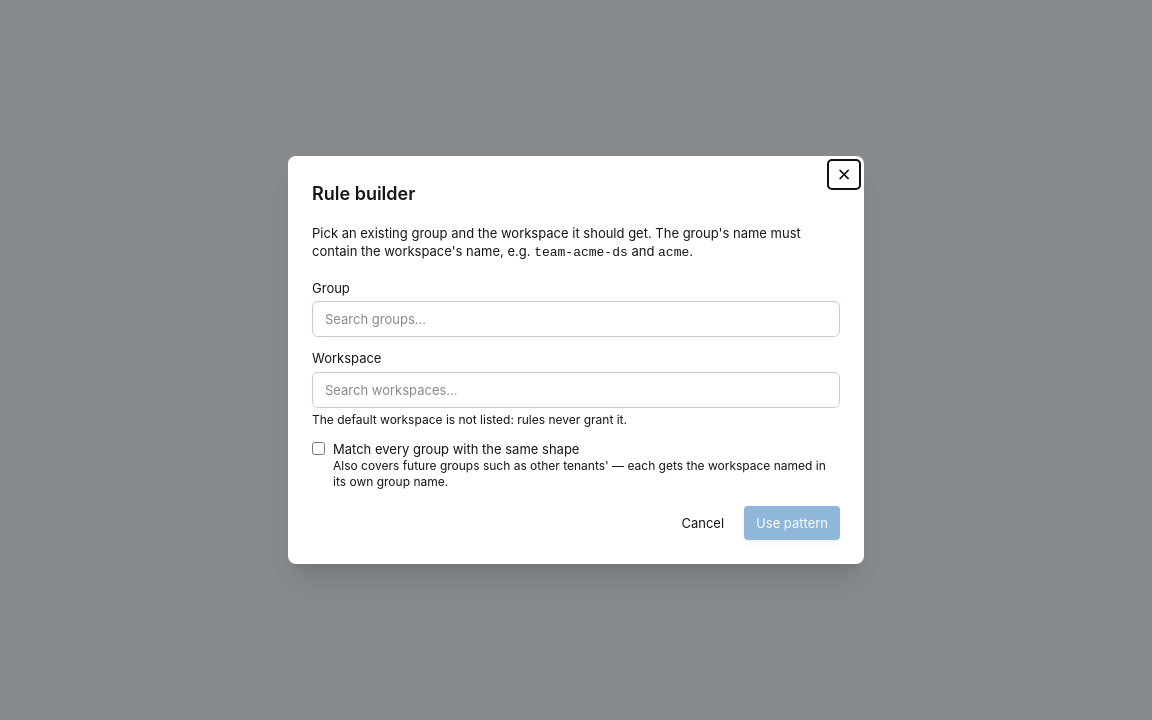
RuleBuilderModal › does not offer the default workspace
Focus the dropdown labelled "Workspace" at (576, 390), box [312,372,840,408]
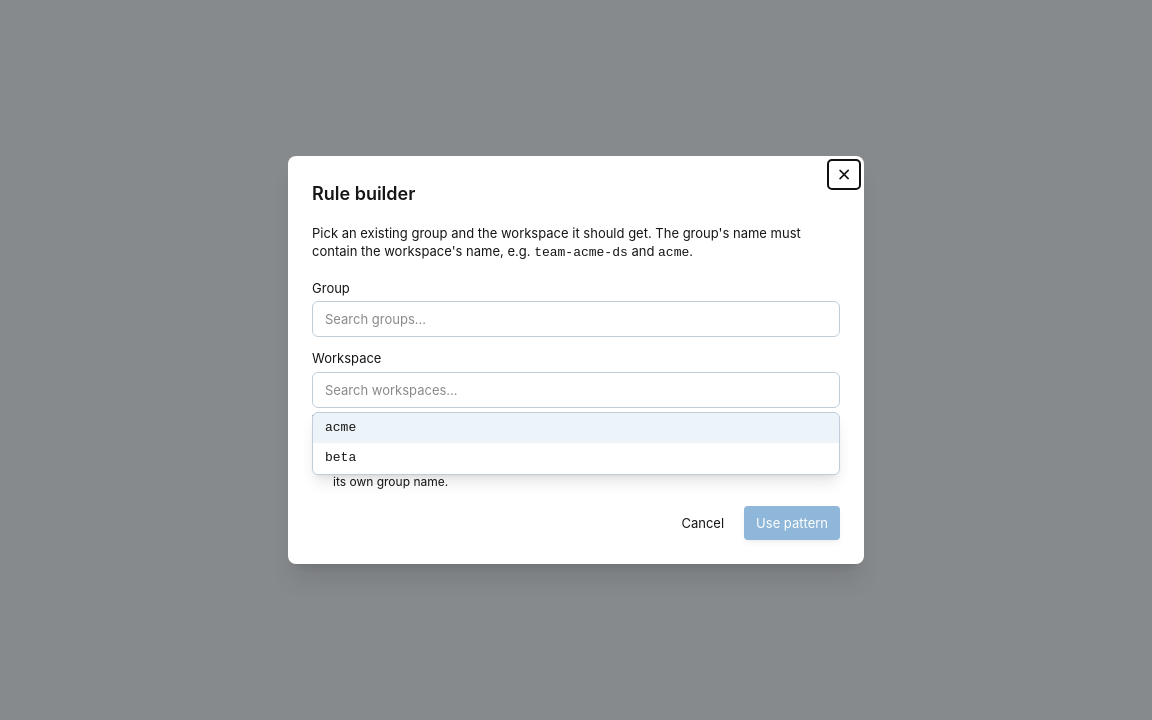
expect the options read "acme", "beta", in this order: met, box [313,413,839,443]; [325,450,356,465]
